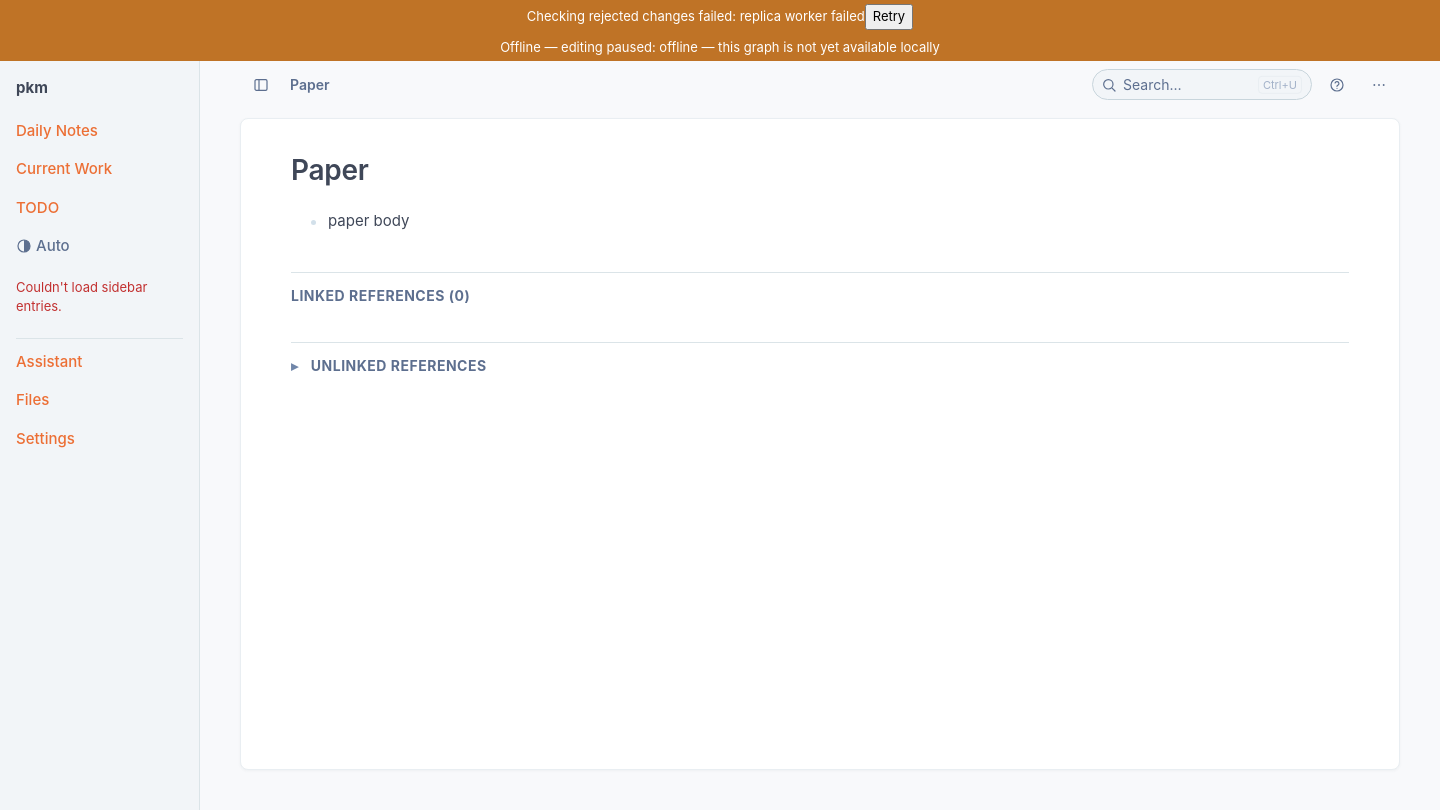
Test: ctrl-shift-t works while a block is being edited
Click the text "paper body". click: (369, 220)
box: [328,211,409,230]
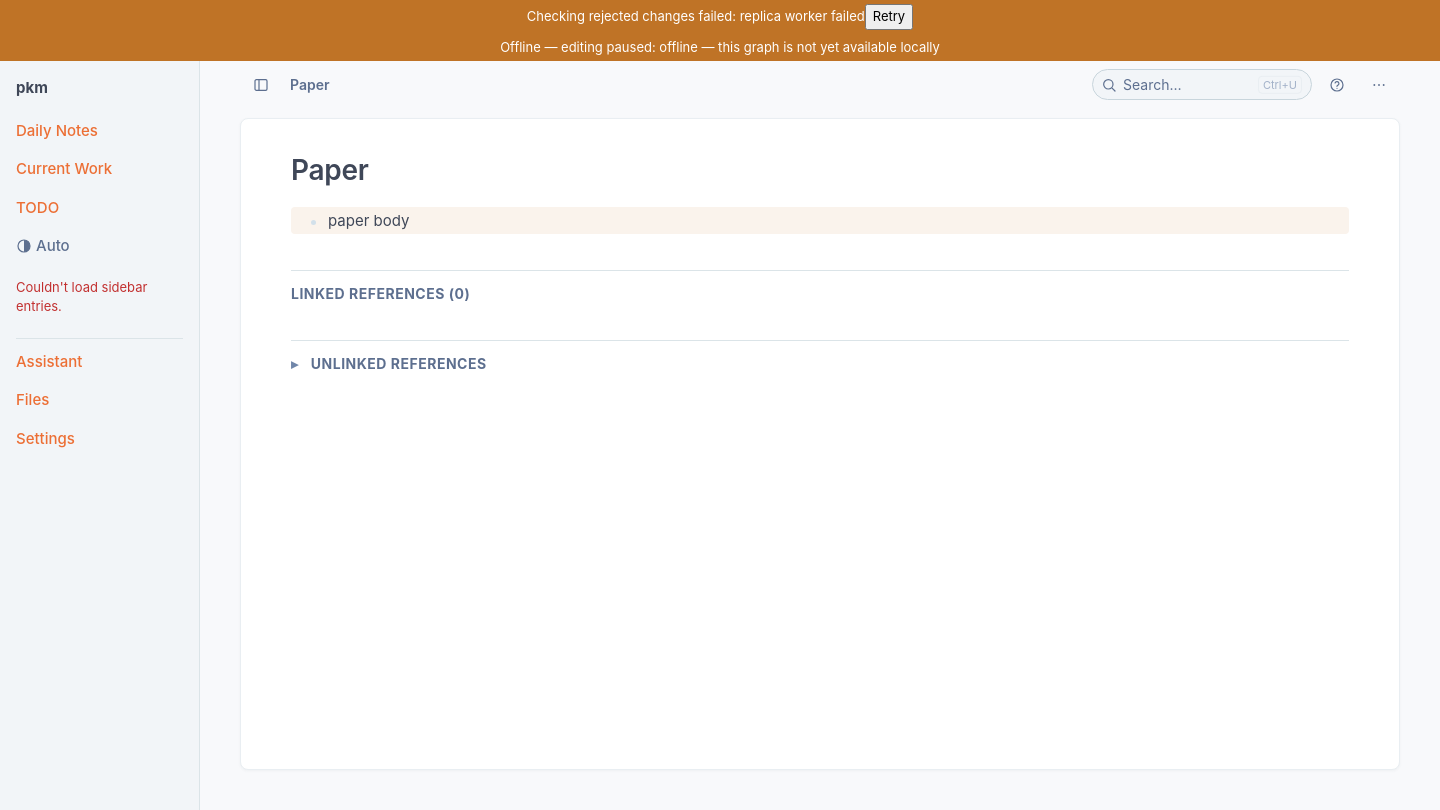
Press t in the text box, box [328,210,1349,231]
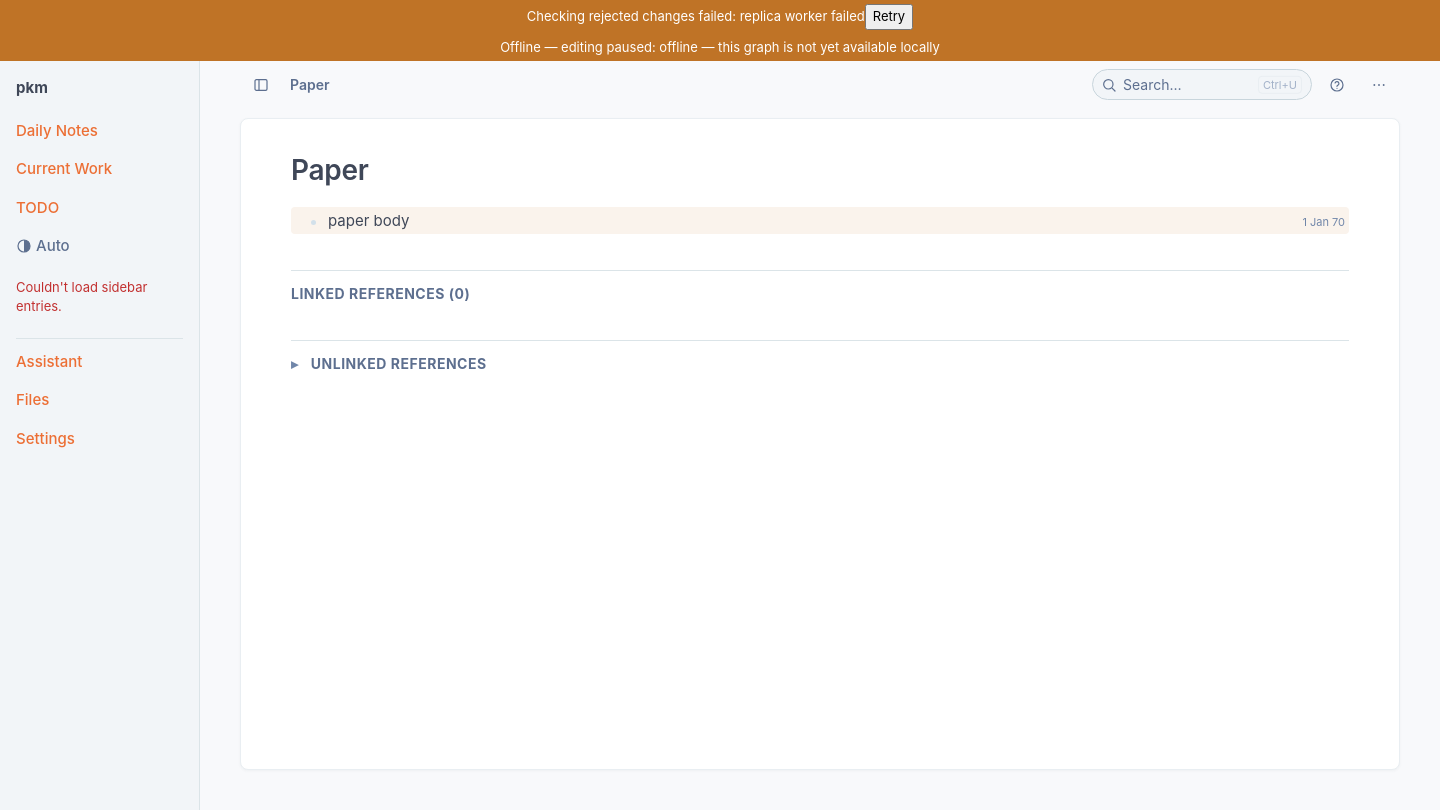
Now the text "1 Jan 70" is shown, box [1302,215,1345,229]
